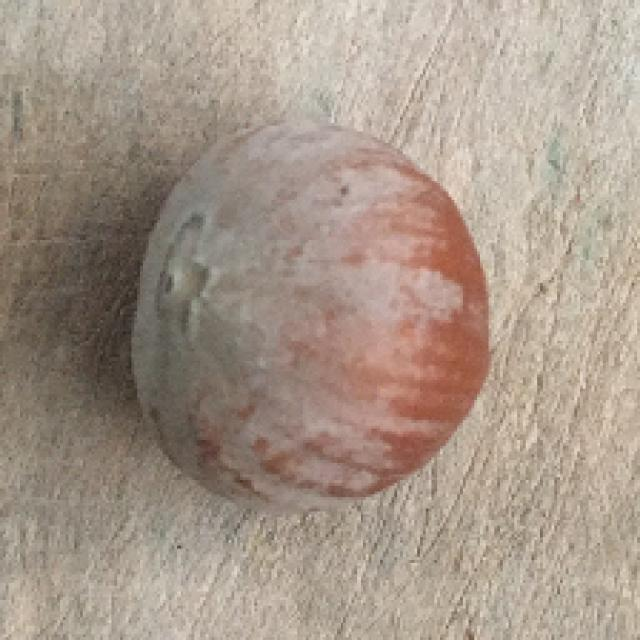qualityHazelnut: (128, 112, 496, 526)
